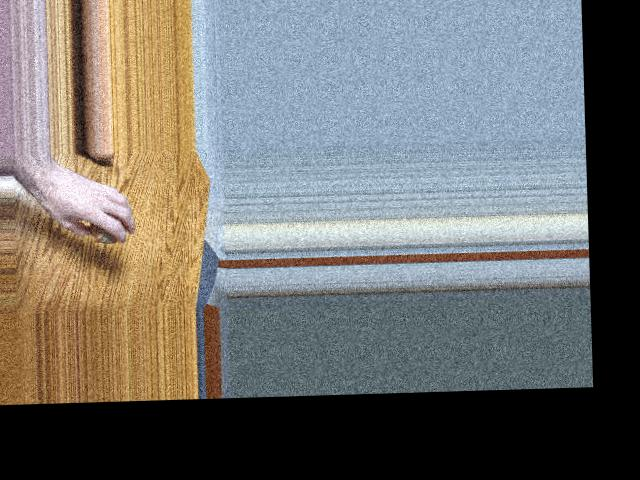onion: (86, 207, 131, 245)
